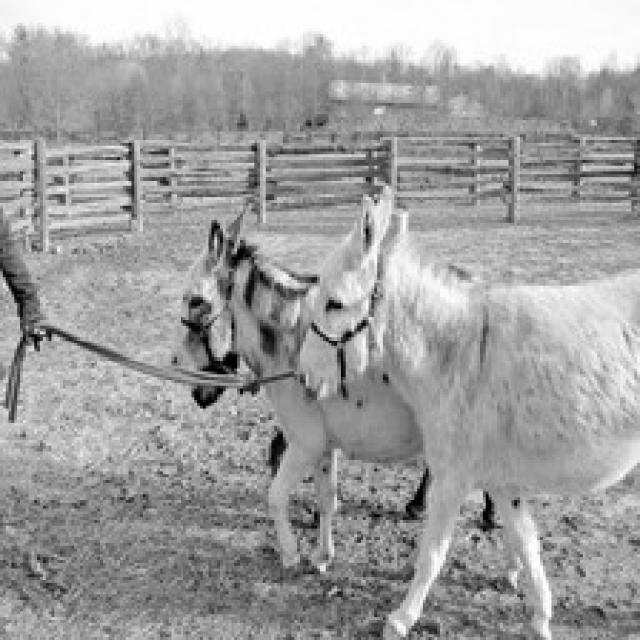Donkey: (294, 183, 637, 637), (168, 206, 503, 577)
